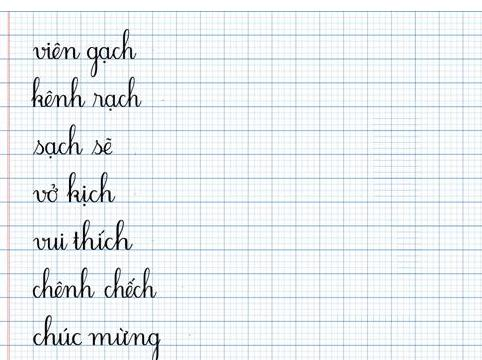text: (31, 313, 163, 360), (32, 28, 138, 79), (29, 266, 158, 301), (28, 75, 143, 114), (32, 218, 134, 253), (32, 170, 116, 208), (31, 124, 115, 160)
